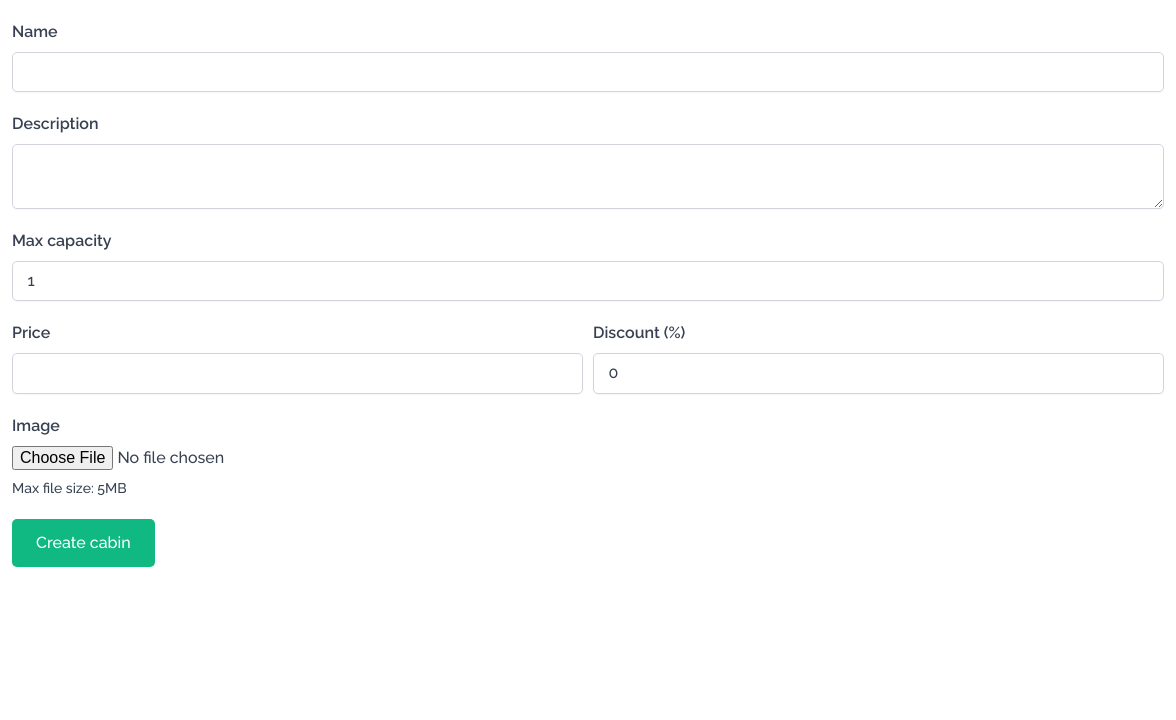
Test: CreateCabinForm › should show error messages if required input values are not provided
Click the button "Create cabin" at (83, 542), box [12,518,155,566]
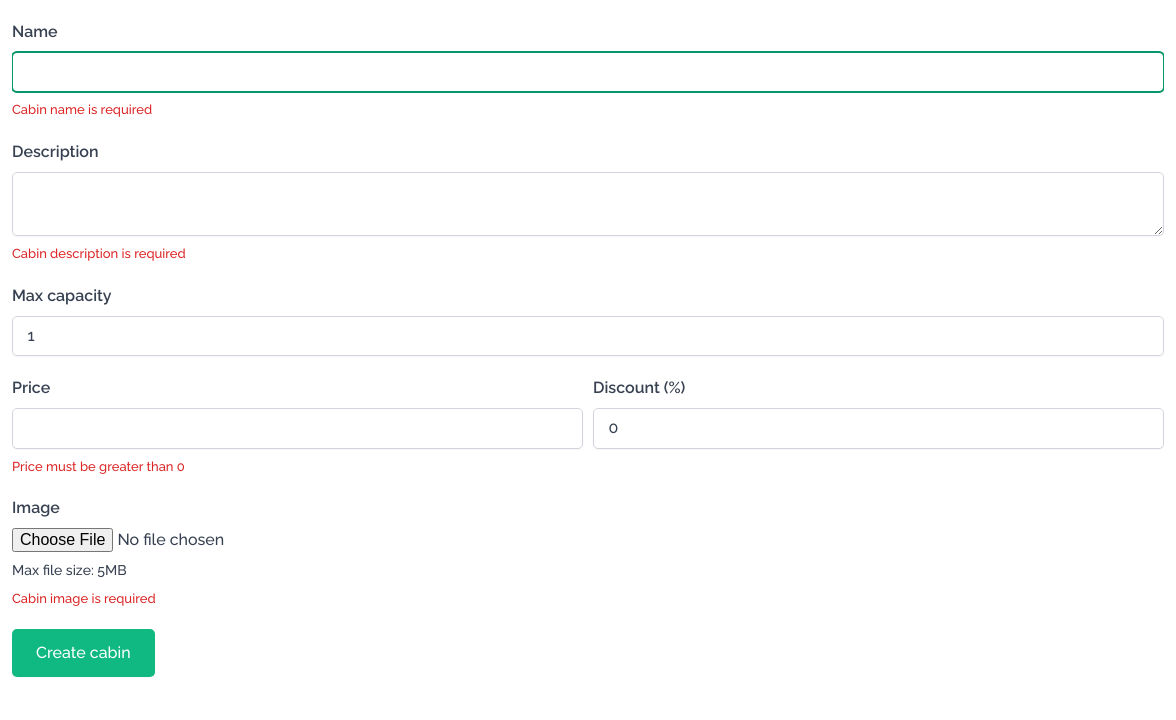
Expected: the message "Cabin name is required" is shown, [12,102,152,117]
Expected: the message "Cabin description is required" is shown, [12,246,186,261]
Expected: the message "Price must be greater than 0" is shown, [12,458,185,474]
